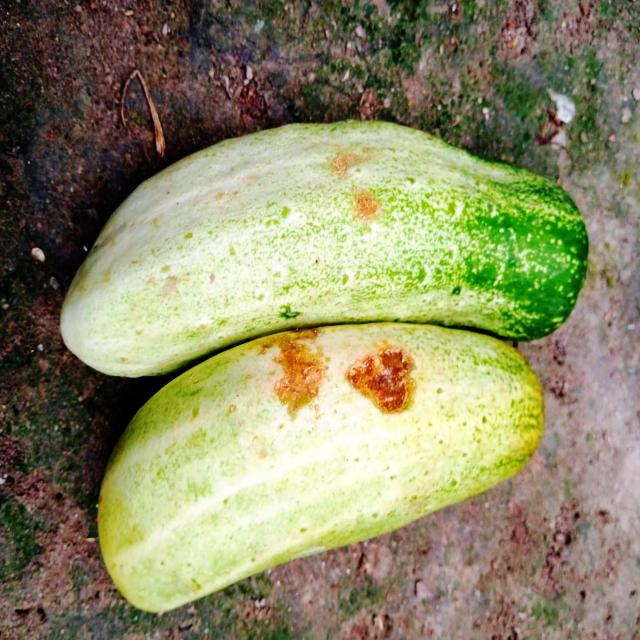Belly-Rot: (258, 322, 424, 427), (328, 143, 388, 228)
